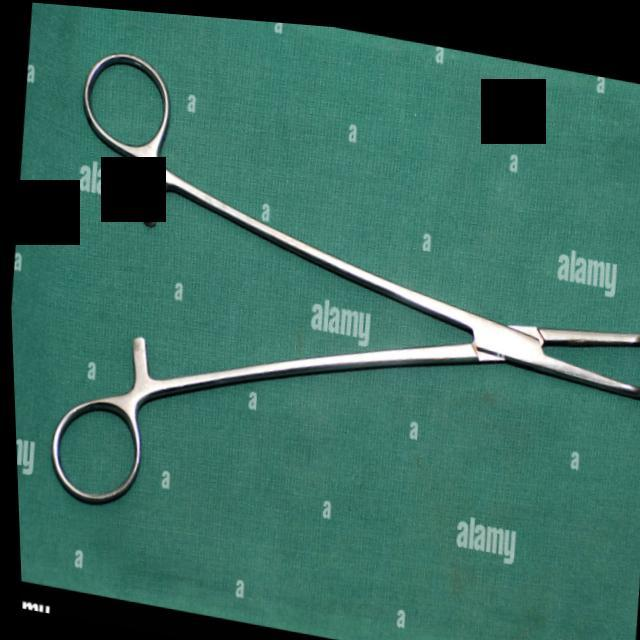Rectangle Cholecystectomy Forceps: (21, 20, 640, 608)
